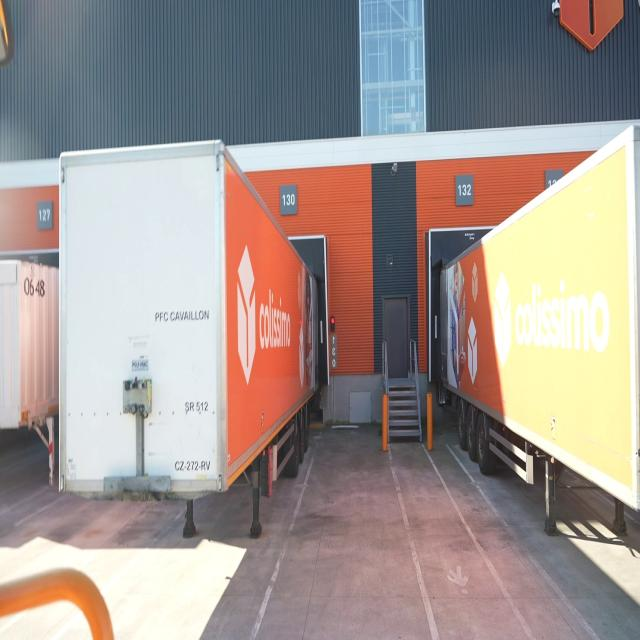Code: (20, 270, 46, 299)
